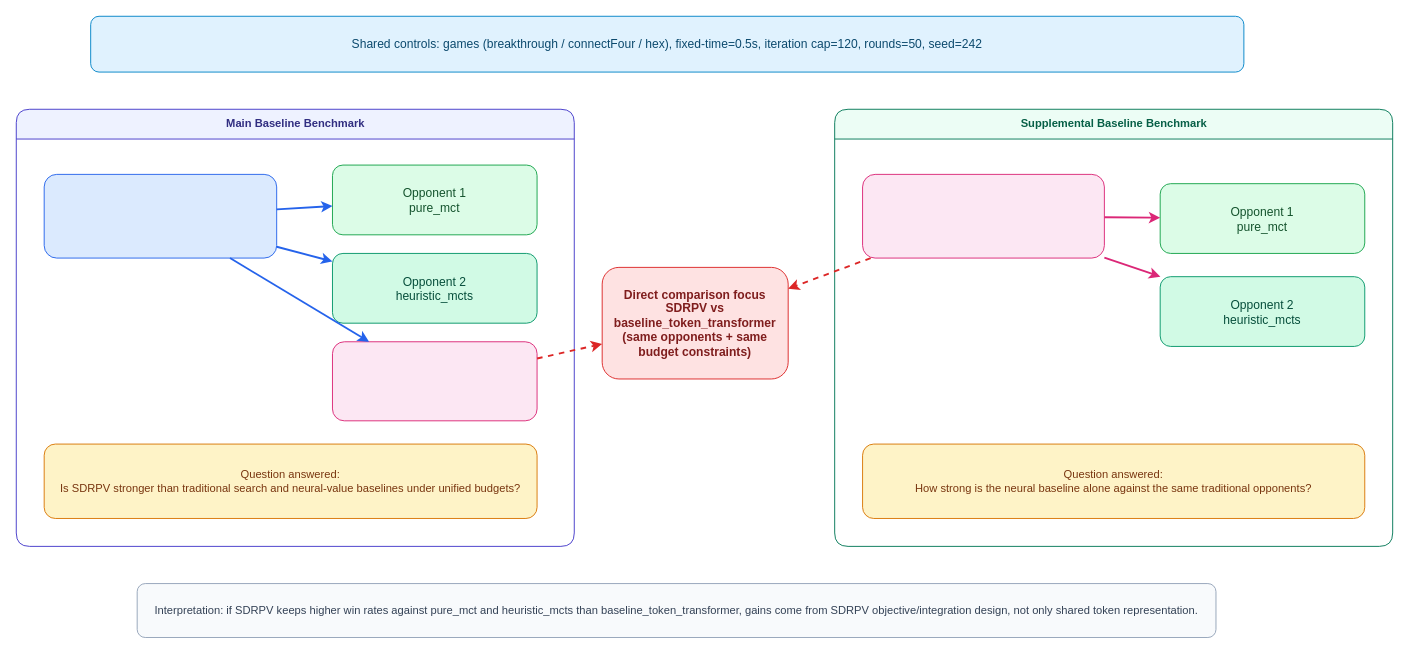
The diagram is 1409 pixels wide and 654 high, and some of its shapes have lost their labels. Here are the shapes that lost their labels. From the top down, the centre of each, then its label:
At (x=160, y=215): "Agent A: SDRPV neural_mcts:sdrpv_value_full".
At (x=983, y=215): "Agent A: baseline_token_transformer".
At (x=434, y=381): "Opponent 3 baseline_token_transformer".
